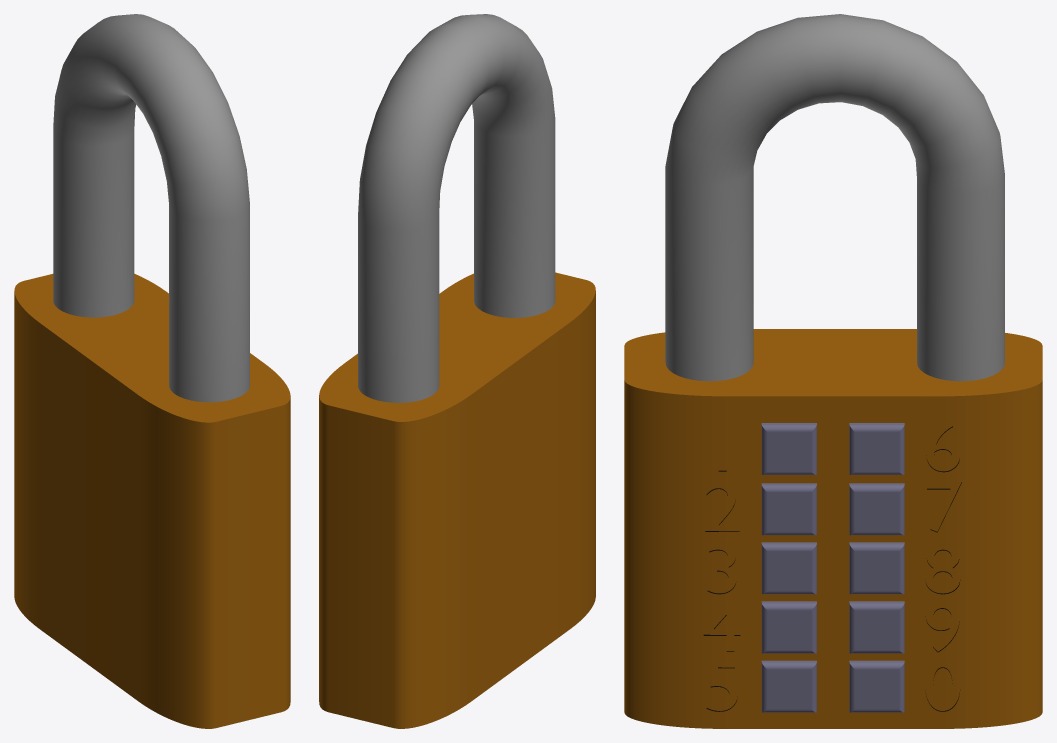
The picture shows the model from 3 angles, left to right: view 1: azimuth 30°, elevation 25°; view 2: azimuth 150°, elevation 25°; view 3: azimuth 270°, elevation 25°; orthographic projection. The views are drawn at different scales.
Visible parts, largest first — view 1: Cylinder; view 2: Cylinder; view 3: Cylinder.
Boxes of the visible parts, left/top/right/bottom form: Cylinder: left=14, top=14, right=290, bottom=728; Cylinder: left=319, top=14, right=595, bottom=728; Cylinder: left=624, top=14, right=1042, bottom=728.
Bounding box in the file's own units: 212 × 938 × 525.
